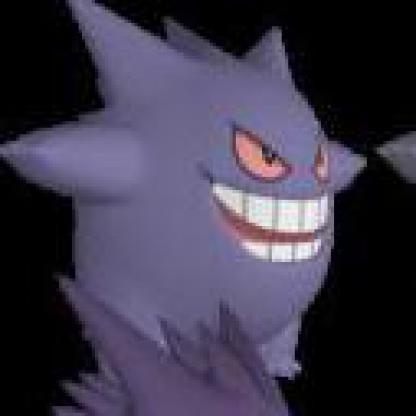Gengar: (1, 1, 371, 384)
